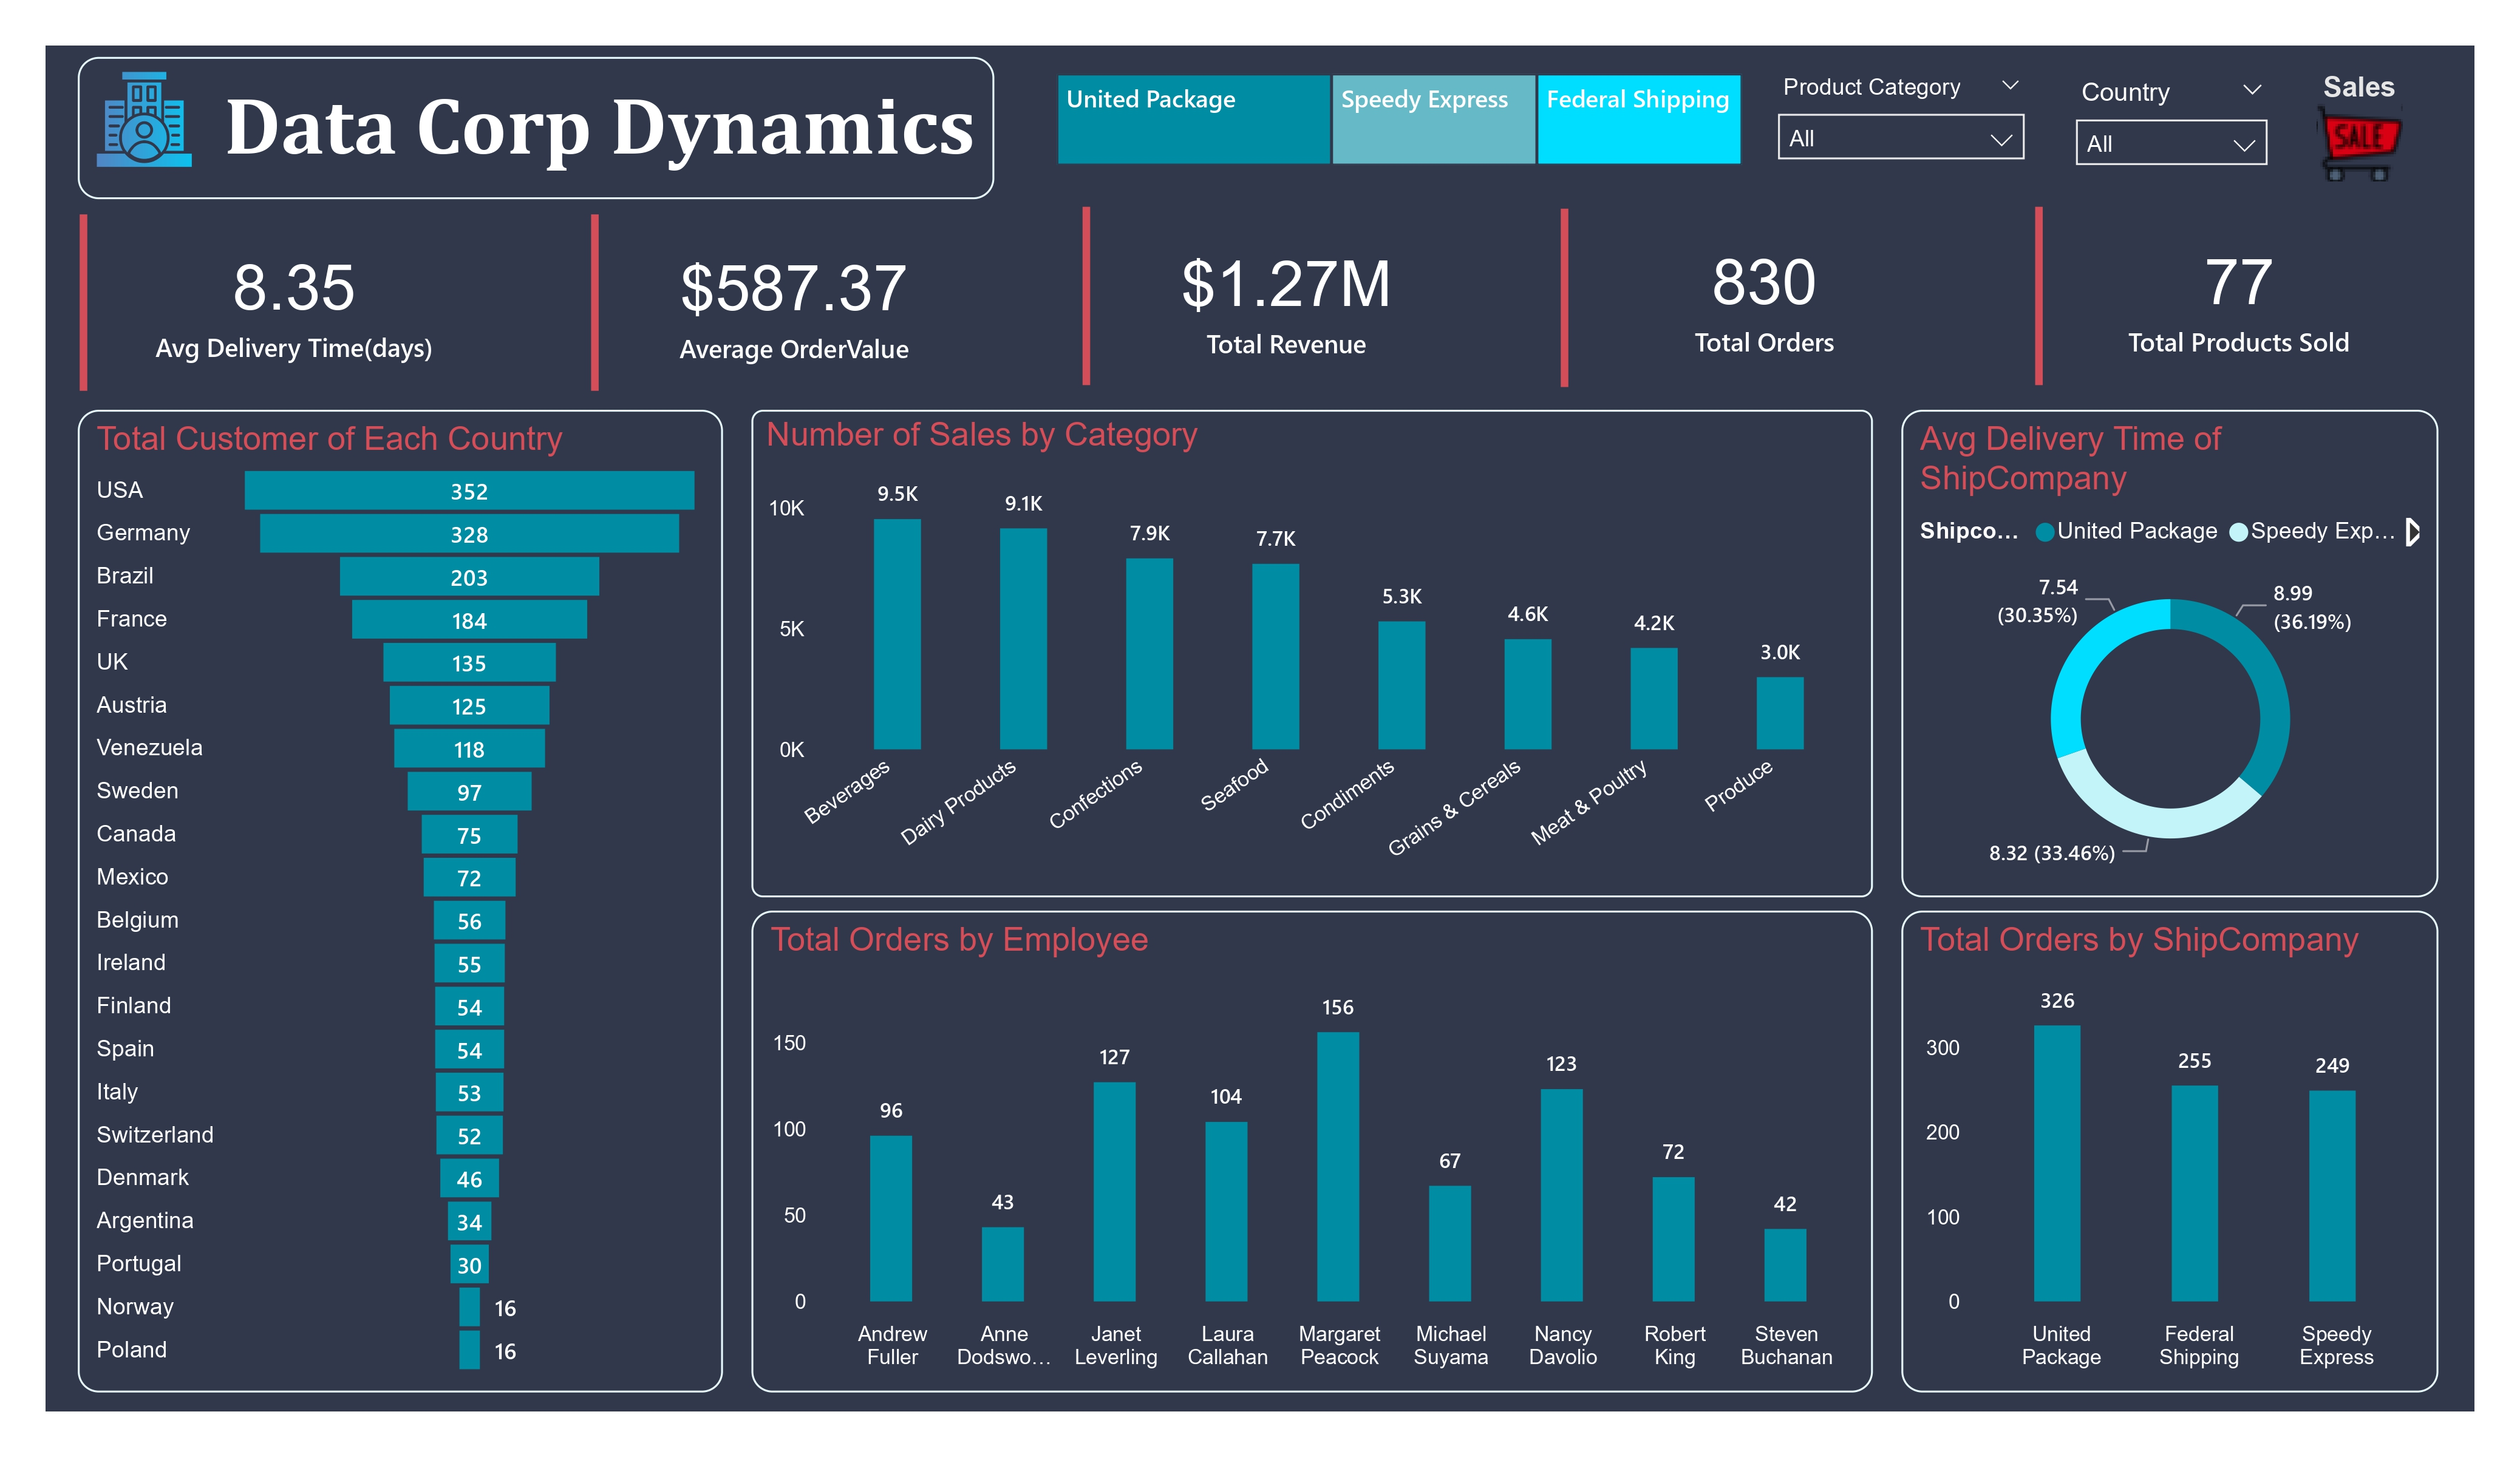

This screenshot's page, from the dashboard's own definition file:
{"tool":"powerbi","page":{"name":"Orders","canvas":[1280,720],"ordinal":1},"visuals":[{"type":"card","fields":{"Values":["Avg(orders.Delivery time(order - ship date) in days)"]},"box":[20.2,88.7,221.8,92.2],"z":0},{"type":"card","fields":{"Values":["Avg(orders.OrderValue)"]},"box":[289.4,88.7,210.2,93.6],"z":1000},{"type":"textbox","box":[17.3,5.8,482.4,74.9],"z":2000},{"type":"slicer","fields":{"Values":["orders.categoryName"]},"box":[902.9,10.1,149.8,57.6],"z":3000},{"type":"slicer","fields":{"Values":["orders.Customerscountry"]},"box":[1059.8,11.5,121,57.6],"z":4000},{"type":"treemap","fields":{"Group":["orders.ShipcompanyName"],"Values":["CountNonNull(orders.orderID)"]},"box":[528.5,10.1,370.1,57.6],"z":5000},{"type":"clusteredColumnChart","title":"Number of Sales by Category","fields":{"Category":["orders.categoryName"],"Y":["Sum(orders.quantity)"]},"box":[371.5,191.5,591.8,257.8],"z":6000},{"type":"donutChart","title":"Avg Delivery Time of ShipCompany","fields":{"Category":["orders.ShipcompanyName"],"Y":["Avg(orders.Delivery time(order - ship date) in days)"]},"box":[977.8,191.5,283.7,257.8],"z":7000},{"type":"funnel","title":"Total Customer of Each Country","fields":{"Category":["orders.Customerscountry"],"Y":["CountNonNull(orders.customerID)"]},"box":[17.3,191.5,339.8,518.4],"z":8000},{"type":"columnChart","title":"Total Orders by Employee","fields":{"Y":["Count(orders.orderID)"],"Category":["orders.employeeName"]},"box":[371.5,456.5,591.8,253.4],"z":9000},{"type":"columnChart","title":"Total Orders by ShipCompany","fields":{"Category":["orders.companyName"],"Y":["Count(orders.orderID)"]},"box":[977.8,456.5,283.7,253.4],"z":10000},{"type":"card","fields":{"Values":["Count(orders.orderID)"]},"box":[800.6,85,210.2,93.6],"z":11000},{"type":"card","fields":{"Values":["Measure.TotalProductSold"]},"box":[1051.2,85,210.2,93.6],"z":12000},{"type":"card","fields":{"Values":["Sum(orders.OrderValue)"]},"box":[548.6,86.4,210.2,93.6],"z":13000},{"type":"image","box":[20.2,5.8,63.4,66.2],"z":14000},{"type":"actionButton","box":[1172.2,10.1,95,61.9],"z":15000},{"type":"shape","box":[0,88.7,40.3,93.6],"z":16000},{"type":"shape","box":[269.3,88.7,40.3,93.6],"z":17000},{"type":"shape","box":[528.5,85,40.3,93.6],"z":18000},{"type":"shape","box":[780.5,86.4,40.3,93.6],"z":19000},{"type":"shape","box":[1009.4,85,82.1,93.6],"z":20000}]}

Visuals, with their boxes on the page's 1280x720 design canvas (x1, y1, x2, y2). These are canvas units, not pixel positions in the 2520x1457 screenshot, which may show the page scaled, cropped or inside an application window:
card - Avg(orders.Delivery time(order - ship date) in days): 20 89 242 181
card - Avg(orders.OrderValue): 289 89 500 182
textbox: 17 6 500 81
slicer - orders.categoryName: 903 10 1053 68
slicer - orders.Customerscountry: 1060 12 1181 69
treemap - orders.ShipcompanyName x CountNonNull(orders.orderID): 528 10 899 68
"Number of Sales by Category" clusteredColumnChart: 372 192 963 449
"Avg Delivery Time of ShipCompany" donutChart: 978 192 1262 449
"Total Customer of Each Country" funnel: 17 192 357 710
"Total Orders by Employee" columnChart: 372 456 963 710
"Total Orders by ShipCompany" columnChart: 978 456 1262 710
card - Count(orders.orderID): 801 85 1011 179
card - Measure.TotalProductSold: 1051 85 1261 179
card - Sum(orders.OrderValue): 549 86 759 180
image: 20 6 84 72
actionButton: 1172 10 1267 72
shape: 0 89 40 182
shape: 269 89 310 182
shape: 528 85 569 179
shape: 780 86 821 180
shape: 1009 85 1092 179
